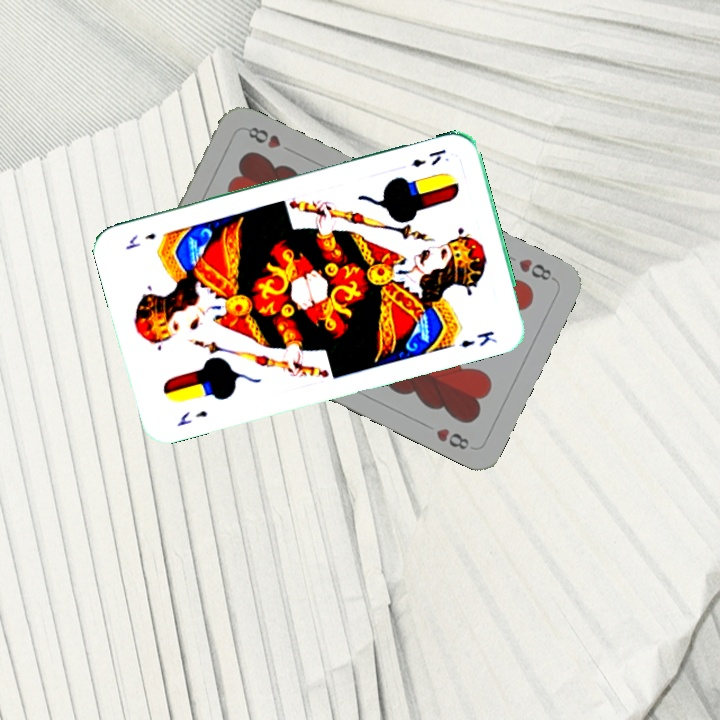EK: (407, 145, 449, 170), (172, 406, 210, 429)
H8: (514, 254, 558, 284)
